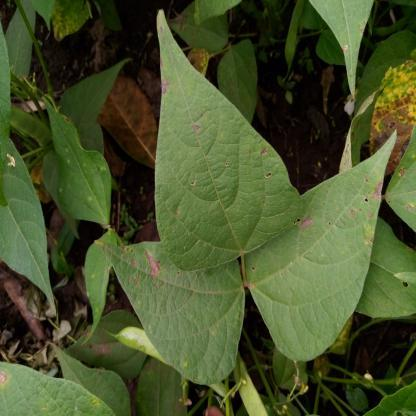Beans_Angular_LeafSpot: (148, 11, 300, 274), (247, 140, 390, 356), (96, 233, 245, 378)
